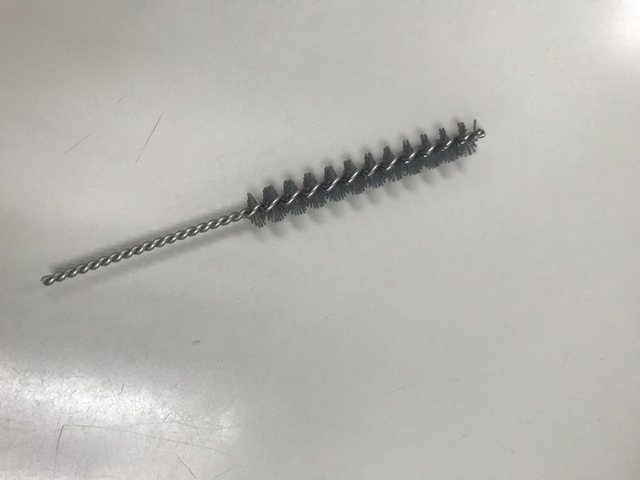Twist Brush-A: (39, 118, 484, 290)
